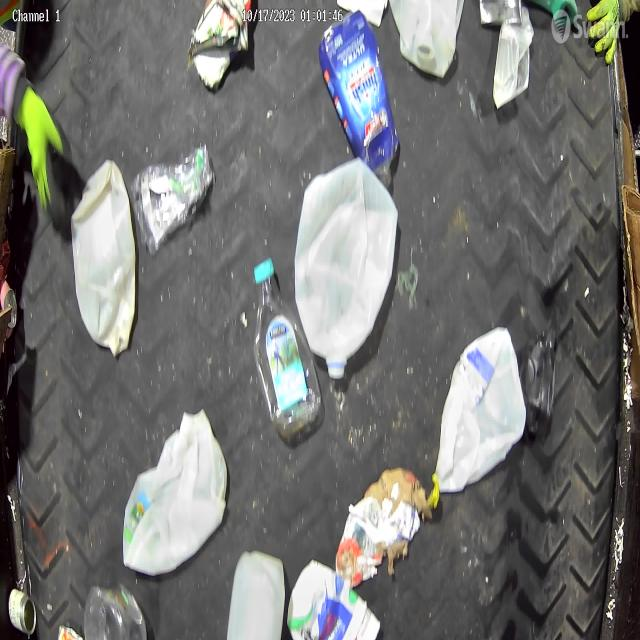milk-jug: (295, 156, 401, 386), (429, 323, 529, 510)
